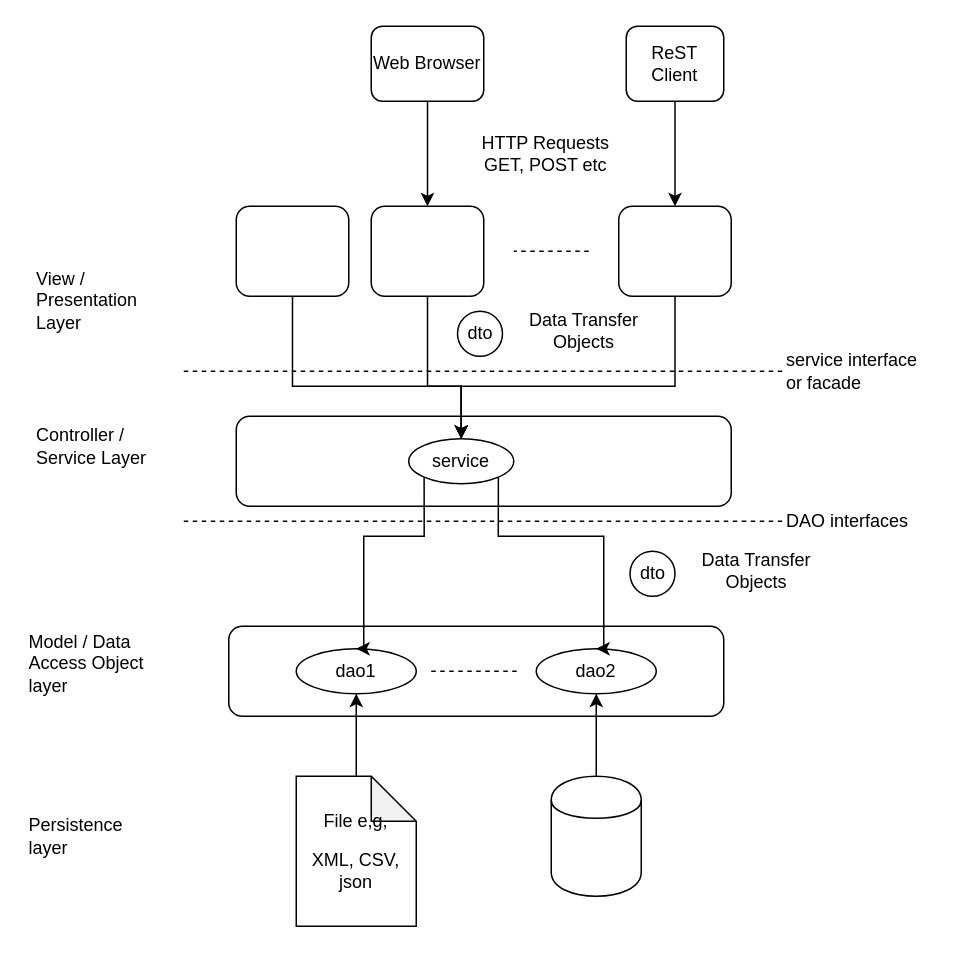
The diagram is 959 pixels wide and 953 high, and some of its shapes have lost their labels. The centre of each missing label's shape, as x and y in pixels:
Command line: point (292, 250)
database: point (595, 835)
jsp: point (427, 250)
ReST: point (674, 250)
